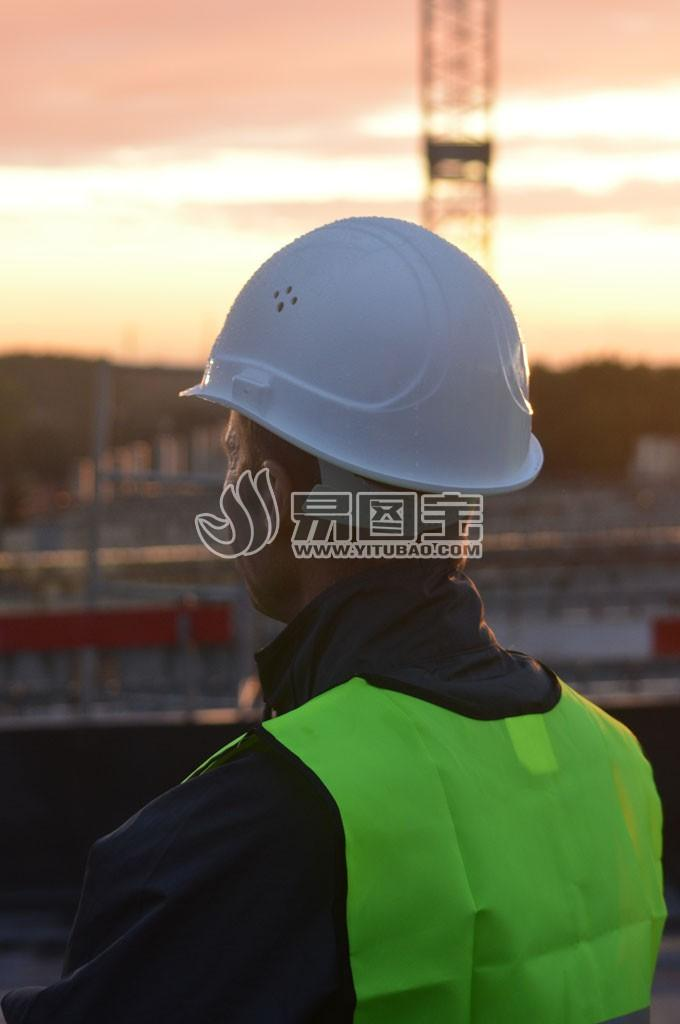helmet: (186, 200, 600, 503)
